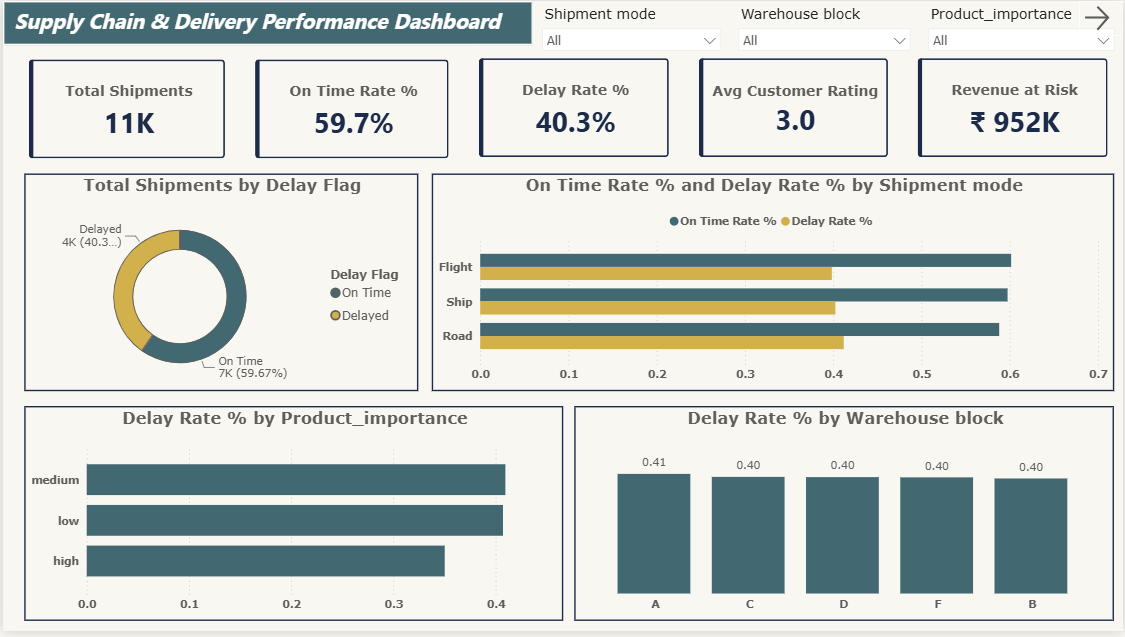

What the dashboard file says about the page in this screenshot:
{"tool":"powerbi","page":{"name":"Overview","canvas":[1280,720],"ordinal":0},"visuals":[{"type":"cardVisual","fields":{"Data":["Shipments.Total Shipments"]},"box":[12.9,50,258.6,147.1],"z":0},{"type":"cardVisual","fields":{"Data":["Shipments.On Time Rate %"]},"box":[271.4,50,255.7,147.1],"z":1000},{"type":"cardVisual","fields":{"Data":["Shipments.Delay Rate %"]},"box":[527.1,48.6,251.4,147.1],"z":2000},{"type":"cardVisual","fields":{"Data":["Shipments.Revenue at Risk"]},"box":[1028.6,48.6,251.4,147.1],"z":3000},{"type":"clusteredBarChart","fields":{"Category":["Shipments.Shipment mode"],"Y":["Shipments.On Time Rate %","Shipments.Delay Rate %"]},"box":[490,197.1,780,248.6],"z":4000},{"type":"donutChart","fields":{"Y":["Shipments.Total Shipments"],"Category":["Shipments.Delay Flag"]},"box":[24.3,197.1,450,248.6],"z":5000},{"type":"columnChart","fields":{"Category":["Shipments.Warehouse block"],"Y":["Shipments.Delay Rate %"]},"box":[652.9,462.9,617.1,245.7],"z":6000},{"type":"clusteredBarChart","fields":{"Category":["Shipments.Product_importance"],"Y":["Shipments.Delay Rate %"]},"box":[24.3,462.9,615.7,245.7],"z":7000},{"type":"cardVisual","fields":{"Data":["Shipments.Avg Customer Rating"]},"box":[778.6,48.6,250,147.1],"z":8000},{"type":"textbox","box":[0,0,605.7,50],"z":9000},{"type":"slicer","fields":{"Values":["Shipments.Shipment mode"]},"box":[605.7,0,224.3,62.9],"z":10000},{"type":"slicer","fields":{"Values":["Shipments.Warehouse block"]},"box":[830,0,217.1,62.9],"z":11000},{"type":"slicer","fields":{"Values":["Shipments.Product_importance"]},"box":[1047.1,0,232.9,62.9],"z":12000},{"type":"actionButton","box":[1230,0,50,40],"z":13000}]}

Visuals, with their boxes in screenshot pixels (x1, y1, x2, y2), scaled from the page's 1280x720 canvas onto the 1125x637 screenshot:
cardVisual - Shipments.Total Shipments: [11, 44, 239, 174]
cardVisual - Shipments.On Time Rate %: [239, 44, 463, 174]
cardVisual - Shipments.Delay Rate %: [463, 43, 684, 173]
cardVisual - Shipments.Revenue at Risk: [904, 43, 1124, 173]
clusteredBarChart - Shipments.Shipment mode x Shipments.On Time Rate %: [431, 174, 1116, 394]
donutChart - Shipments.Total Shipments x Shipments.Delay Flag: [21, 174, 417, 394]
columnChart - Shipments.Warehouse block x Shipments.Delay Rate %: [574, 410, 1116, 627]
clusteredBarChart - Shipments.Product_importance x Shipments.Delay Rate %: [21, 410, 562, 627]
cardVisual - Shipments.Avg Customer Rating: [684, 43, 904, 173]
textbox: [0, 0, 532, 44]
slicer - Shipments.Shipment mode: [532, 0, 729, 56]
slicer - Shipments.Warehouse block: [729, 0, 920, 56]
slicer - Shipments.Product_importance: [920, 0, 1124, 56]
actionButton: [1081, 0, 1124, 35]
